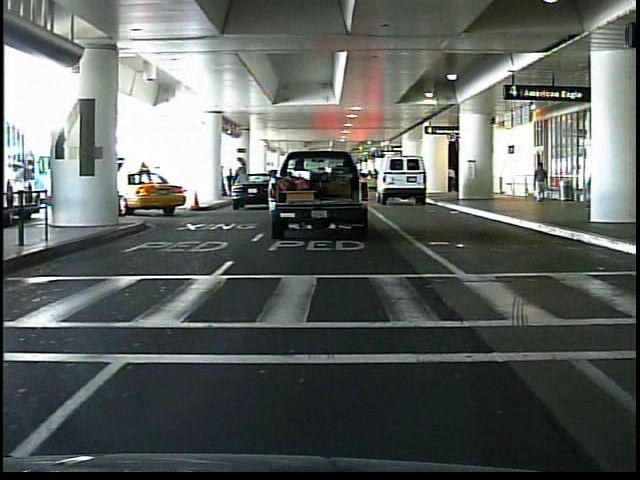person: (530, 157, 550, 208), (444, 165, 458, 198)
